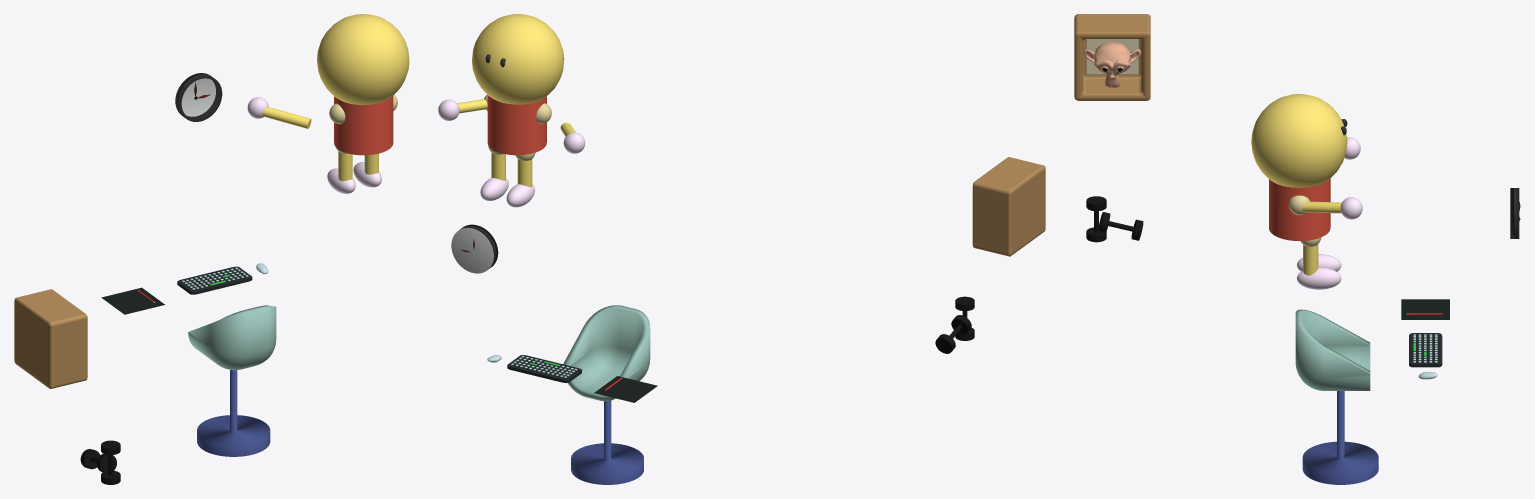
The model's file is portroom.glb.
3 views of the same model, side by side, from view 1: azimuth 30°, elevation 25°; view 2: azimuth 150°, elevation 25°; view 3: azimuth 270°, elevation 25° (orthographic). The views are drawn at different scales.
Parts seen in each view (by area): view 1: Sphere.008, Cube.018, Cube.015, Cylinder, Cylinder.002, Cube.013, Plane, Cylinder.010, Cylinder.004, Cylinder.005; view 2: Sphere.008, Cube.018, Cube.015, Cylinder, Cylinder.002, Cube.013, Plane, Cylinder.005; view 3: Sphere.008, Cube.018, Cube.015, Cylinder, Suzanne, Cube.013, Plane, Cylinder.004, Cylinder.005, Cylinder.002.
Part boxes in pixels (x1=…): Sphere.008: x1=317, y1=14, x2=409, y2=193; Cube.018: x1=14, y1=289, x2=87, y2=388; Cube.015: x1=188, y1=305, x2=276, y2=370; Cylinder: x1=197, y1=370, x2=270, y2=456; Cylinder.002: x1=175, y1=73, x2=222, y2=121; Cube.013: x1=177, y1=266, x2=252, y2=294; Plane: x1=101, y1=287, x2=164, y2=314; Cylinder.010: x1=247, y1=97, x2=311, y2=128; Cylinder.004: x1=101, y1=440, x2=120, y2=484; Cylinder.005: x1=80, y1=449, x2=116, y2=473; Sphere.008: x1=438, y1=14, x2=564, y2=207; Cube.018: x1=972, y1=157, x2=1045, y2=256; Cube.015: x1=563, y1=305, x2=650, y2=401; Cylinder: x1=571, y1=400, x2=643, y2=484; Cylinder.002: x1=451, y1=224, x2=498, y2=273; Cube.013: x1=507, y1=355, x2=581, y2=382; Plane: x1=594, y1=376, x2=657, y2=402; Cylinder.005: x1=935, y1=315, x2=971, y2=353; Sphere.008: x1=1251, y1=94, x2=1362, y2=289; Cube.018: x1=1074, y1=14, x2=1150, y2=100; Cube.015: x1=1295, y1=309, x2=1370, y2=390; Cylinder: x1=1302, y1=391, x2=1378, y2=484; Suzanne: x1=1083, y1=41, x2=1141, y2=87; Cube.013: x1=1409, y1=333, x2=1442, y2=367; Plane: x1=1401, y1=299, x2=1449, y2=319; Cylinder.004: x1=1086, y1=196, x2=1106, y2=242; Cylinder.005: x1=1098, y1=212, x2=1143, y2=240; Cylinder.002: x1=1510, y1=188, x2=1519, y2=238.
Size of the model in its own units: 3.44 by 2.85 by 2.7.
